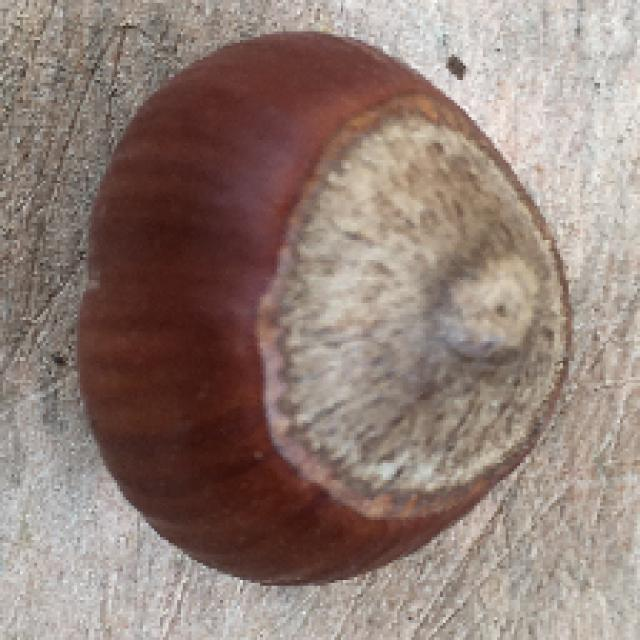qualityHazelnut: (75, 25, 584, 592)
